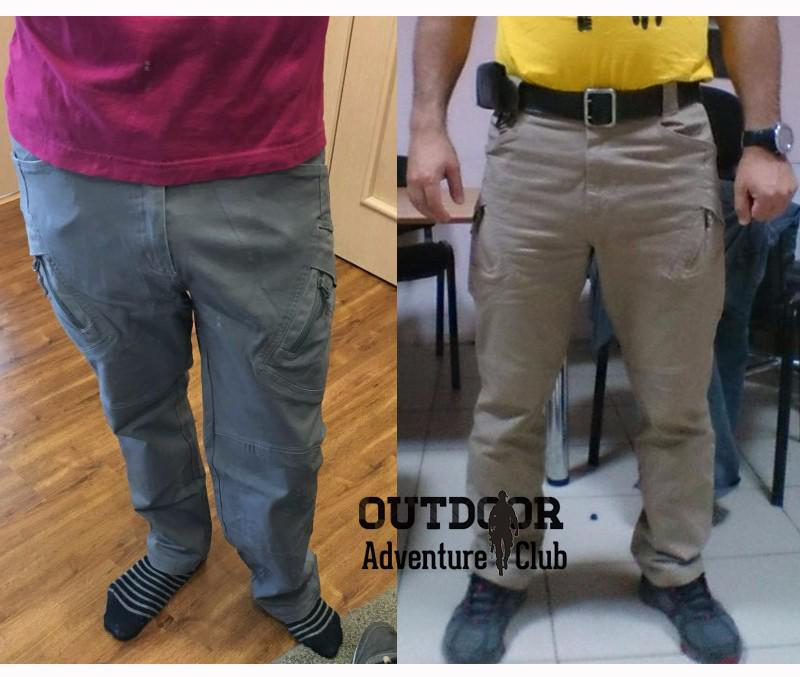pants: (9, 100, 325, 629), (456, 74, 710, 583)
